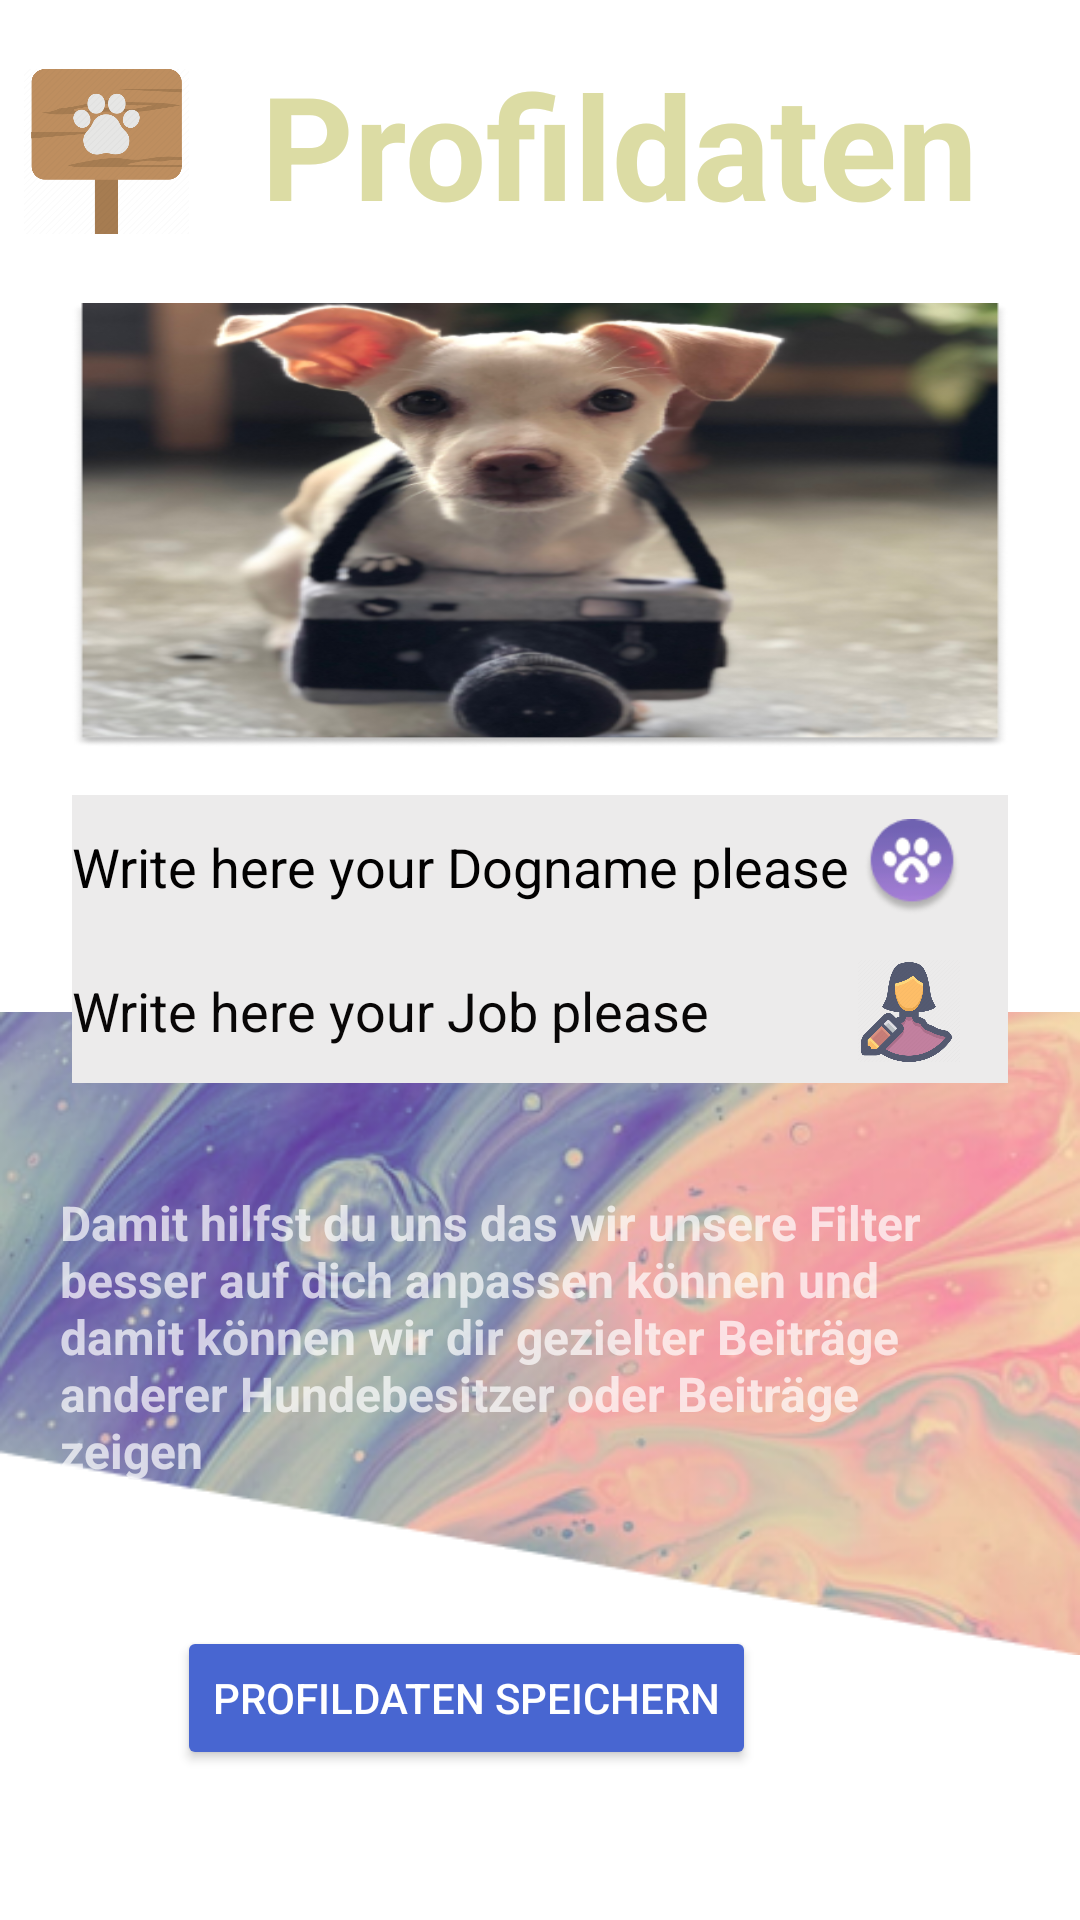

Screen size 1080 × 1920. Icon name, then its center in pixels as (x=x, y=y):
dogshield: (x=106, y=151)
editprofileicon: (x=906, y=1012)
